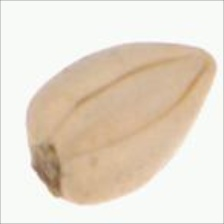L5: (53, 53, 209, 157), (27, 141, 65, 201), (193, 44, 222, 84)
L6: (23, 40, 219, 206)
